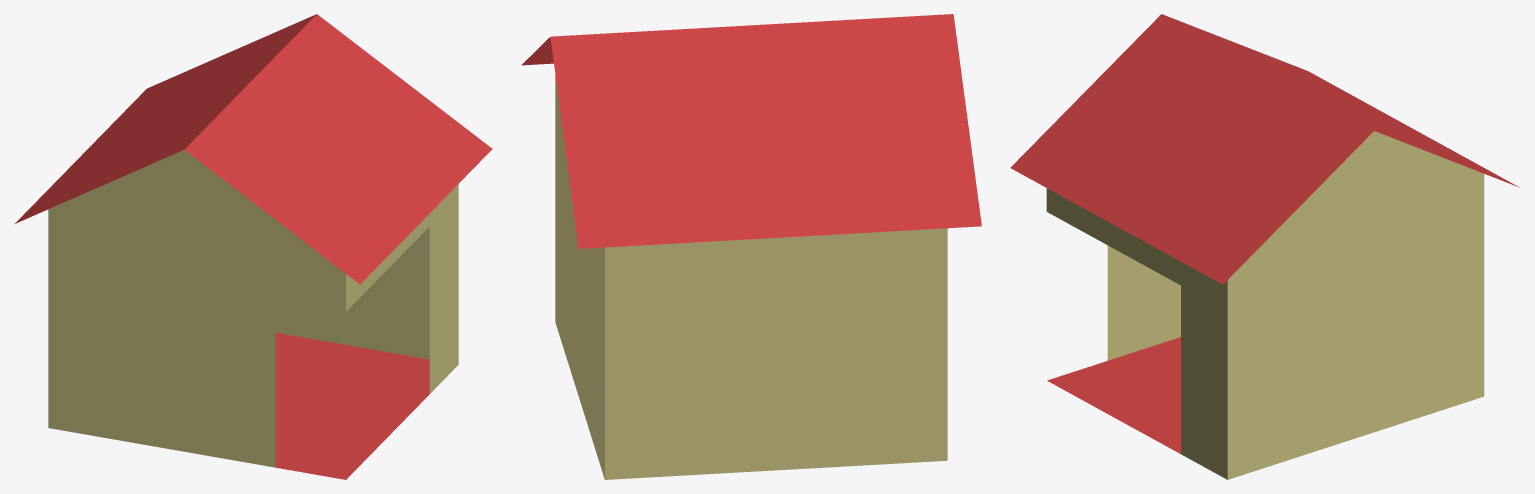
3 renders of one model, left to right at view 1: azimuth 30°, elevation 25°; view 2: azimuth 150°, elevation 25°; view 3: azimuth 270°, elevation 25°, orthographic. The views are drawn at different scales.
Bounding box in the file's own units: 14.52 × 14.66 × 9.99.
